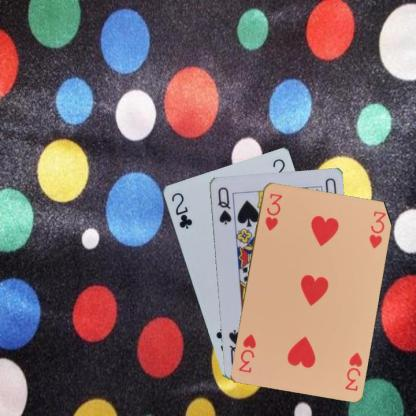2c: (168, 189, 194, 230)
3h: (262, 190, 284, 232), (342, 350, 363, 392)
Qs: (214, 184, 233, 226)
